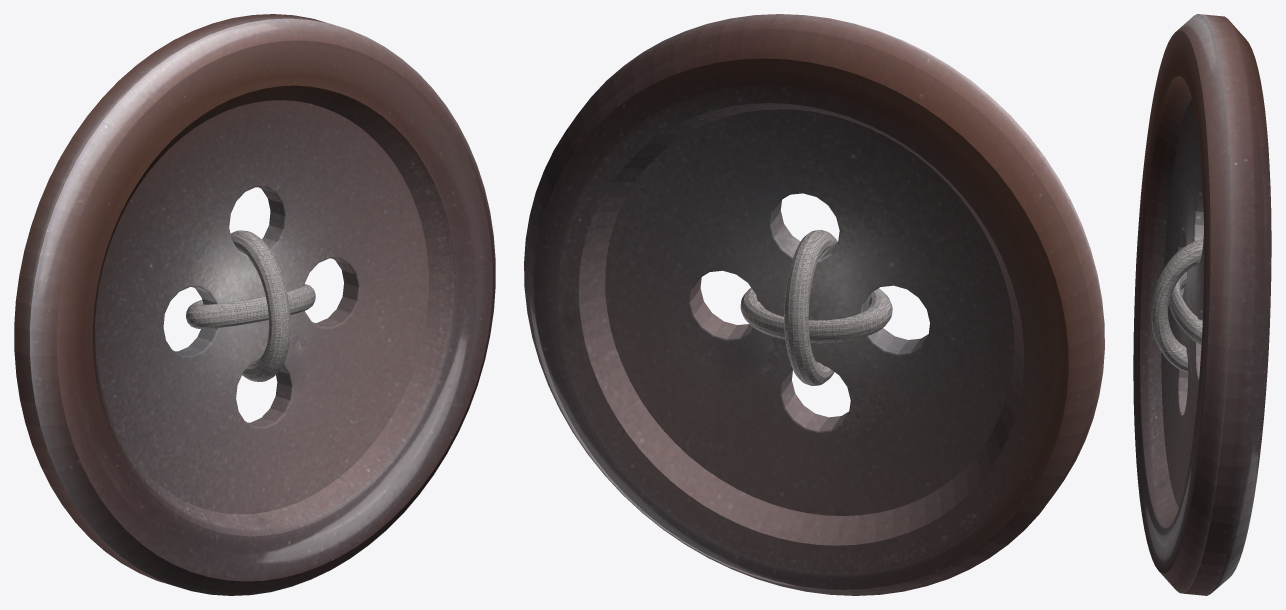
The model's file is Single_Buttons.glb.
3 views of the same model, side by side, from view 1: azimuth 30°, elevation 25°; view 2: azimuth 150°, elevation 25°; view 3: azimuth 270°, elevation 25° (orthographic). The views are drawn at different scales.
Parts seen in each view (by area): view 1: Single_Buttons; view 2: Single_Buttons; view 3: Single_Buttons.
Boxes of the visible parts, x1,y1,x2,y2 form: Single_Buttons: (14, 14, 495, 595); Single_Buttons: (524, 14, 1104, 595); Single_Buttons: (1133, 14, 1271, 595).
Size of the model in its own units: 0.00282 by 0.00297 by 0.000716.
Materials: 2 (2 with a texture image).
